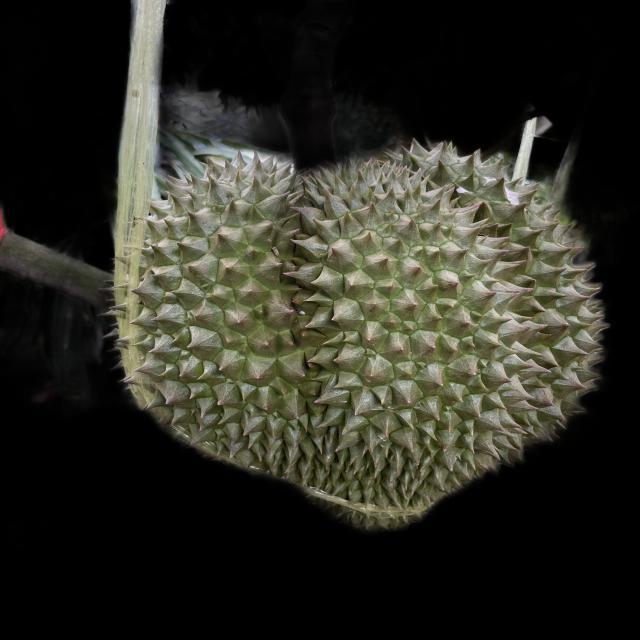immature: (120, 150, 614, 519)
